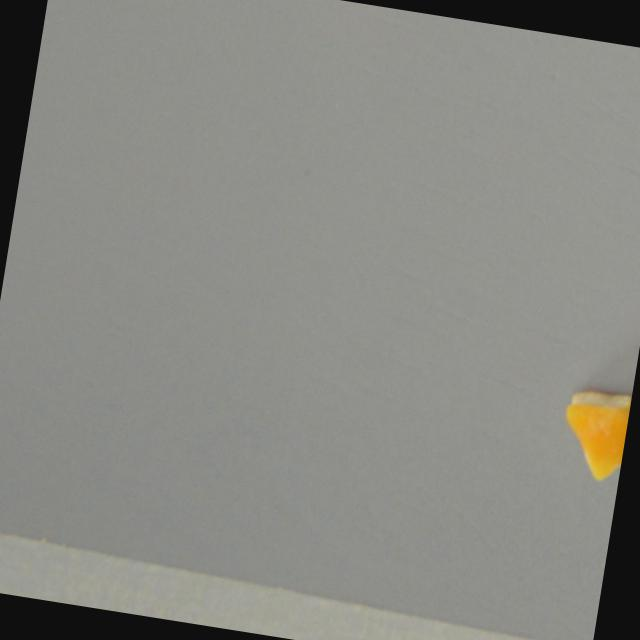no_canjicado: (554, 385, 632, 484)
